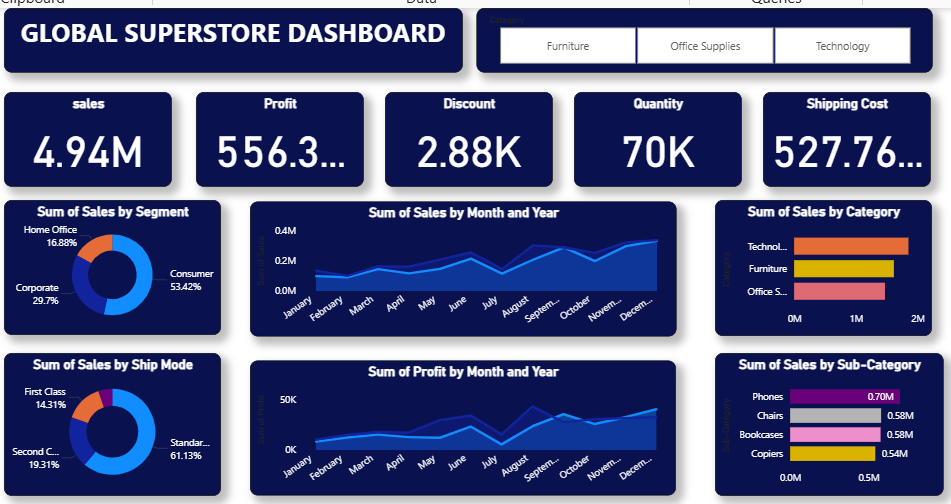

The page's visual inventory and layout, read from the dashboard file:
{"tool":"powerbi","page":{"name":"Page 1","canvas":[1280,720],"ordinal":0},"visuals":[{"type":"card","title":"sales","fields":{"Values":["Sum(Orders.Sales)"]},"box":[37.8,105.8,211.7,119.1],"z":0},{"type":"card","title":"Profit","fields":{"Values":["Sum(Orders.Profit)"]},"box":[279.7,105.8,211.7,119.1],"z":1000},{"type":"card","title":"Discount","fields":{"Values":["Sum(Orders.Discount)"]},"box":[517.8,105.8,211.7,119.1],"z":2000},{"type":"card","title":"Quantity","fields":{"Values":["Sum(Orders.Quantity)"]},"box":[755.9,105.8,211.7,119.1],"z":3000},{"type":"card","title":"Shipping Cost","fields":{"Values":["Sum(Orders.Shipping Cost)"]},"box":[994,105.8,211.7,119.1],"z":4000},{"type":"donutChart","fields":{"Category":["Orders.Segment"],"Y":["Sum(Orders.Sales)"]},"box":[37.2,241.3,273.6,170],"z":5000},{"type":"donutChart","fields":{"Category":["Orders.Ship Mode"],"Y":["Sum(Orders.Sales)"]},"box":[37.2,435.6,273.6,179.7],"z":6000},{"type":"barChart","fields":{"Category":["Orders.Category"],"Y":["Sum(Orders.Sales)"]},"box":[932.7,241.3,273.6,171.6],"z":7000},{"type":"barChart","fields":{"Y":["Sum(Orders.Sales)"],"Category":["Orders.Sub-Category"]},"box":[932.7,435.6,288.2,179.7],"z":8000},{"type":"areaChart","fields":{"Category":["Orders.Order Date.Variation.Date Hierarchy.Month"],"Y":["Sum(Orders.Sales)"],"Series":["Orders.Order Date.Variation.Date Hierarchy.Year"]},"box":[348.1,242.9,537.6,170],"z":9000},{"type":"areaChart","fields":{"Category":["Orders.Order Date.Variation.Date Hierarchy.Month"],"Series":["Orders.Order Date.Variation.Date Hierarchy.Year"],"Y":["Sum(Orders.Profit)"]},"box":[347.7,444.1,536.7,170.1],"z":9001},{"type":"textbox","box":[37.8,0,578.3,81.3],"z":9002},{"type":"slicer","fields":{"Values":["Orders.Category"]},"box":[633.1,0,574.5,81.3],"z":9003}]}

Visuals, with their boxes on the page's 1280x720 design canvas (x1, y1, x2, y2). These are canvas units, not pixel positions in the 951x504 screenshot, which may show the page scaled, cropped or inside an application window:
"sales" card: (38, 106, 250, 225)
"Profit" card: (280, 106, 491, 225)
"Discount" card: (518, 106, 730, 225)
"Quantity" card: (756, 106, 968, 225)
"Shipping Cost" card: (994, 106, 1206, 225)
donutChart - Orders.Segment x Sum(Orders.Sales): (37, 241, 311, 411)
donutChart - Orders.Ship Mode x Sum(Orders.Sales): (37, 436, 311, 615)
barChart - Orders.Category x Sum(Orders.Sales): (933, 241, 1206, 413)
barChart - Sum(Orders.Sales) x Orders.Sub-Category: (933, 436, 1221, 615)
areaChart - Orders.Order Date.Variation.Date Hierarchy.Month x Sum(Orders.Sales): (348, 243, 886, 413)
areaChart - Orders.Order Date.Variation.Date Hierarchy.Month x Orders.Order Date.Variation.Date Hierarchy.Year: (348, 444, 884, 614)
textbox: (38, 0, 616, 81)
slicer - Orders.Category: (633, 0, 1208, 81)
